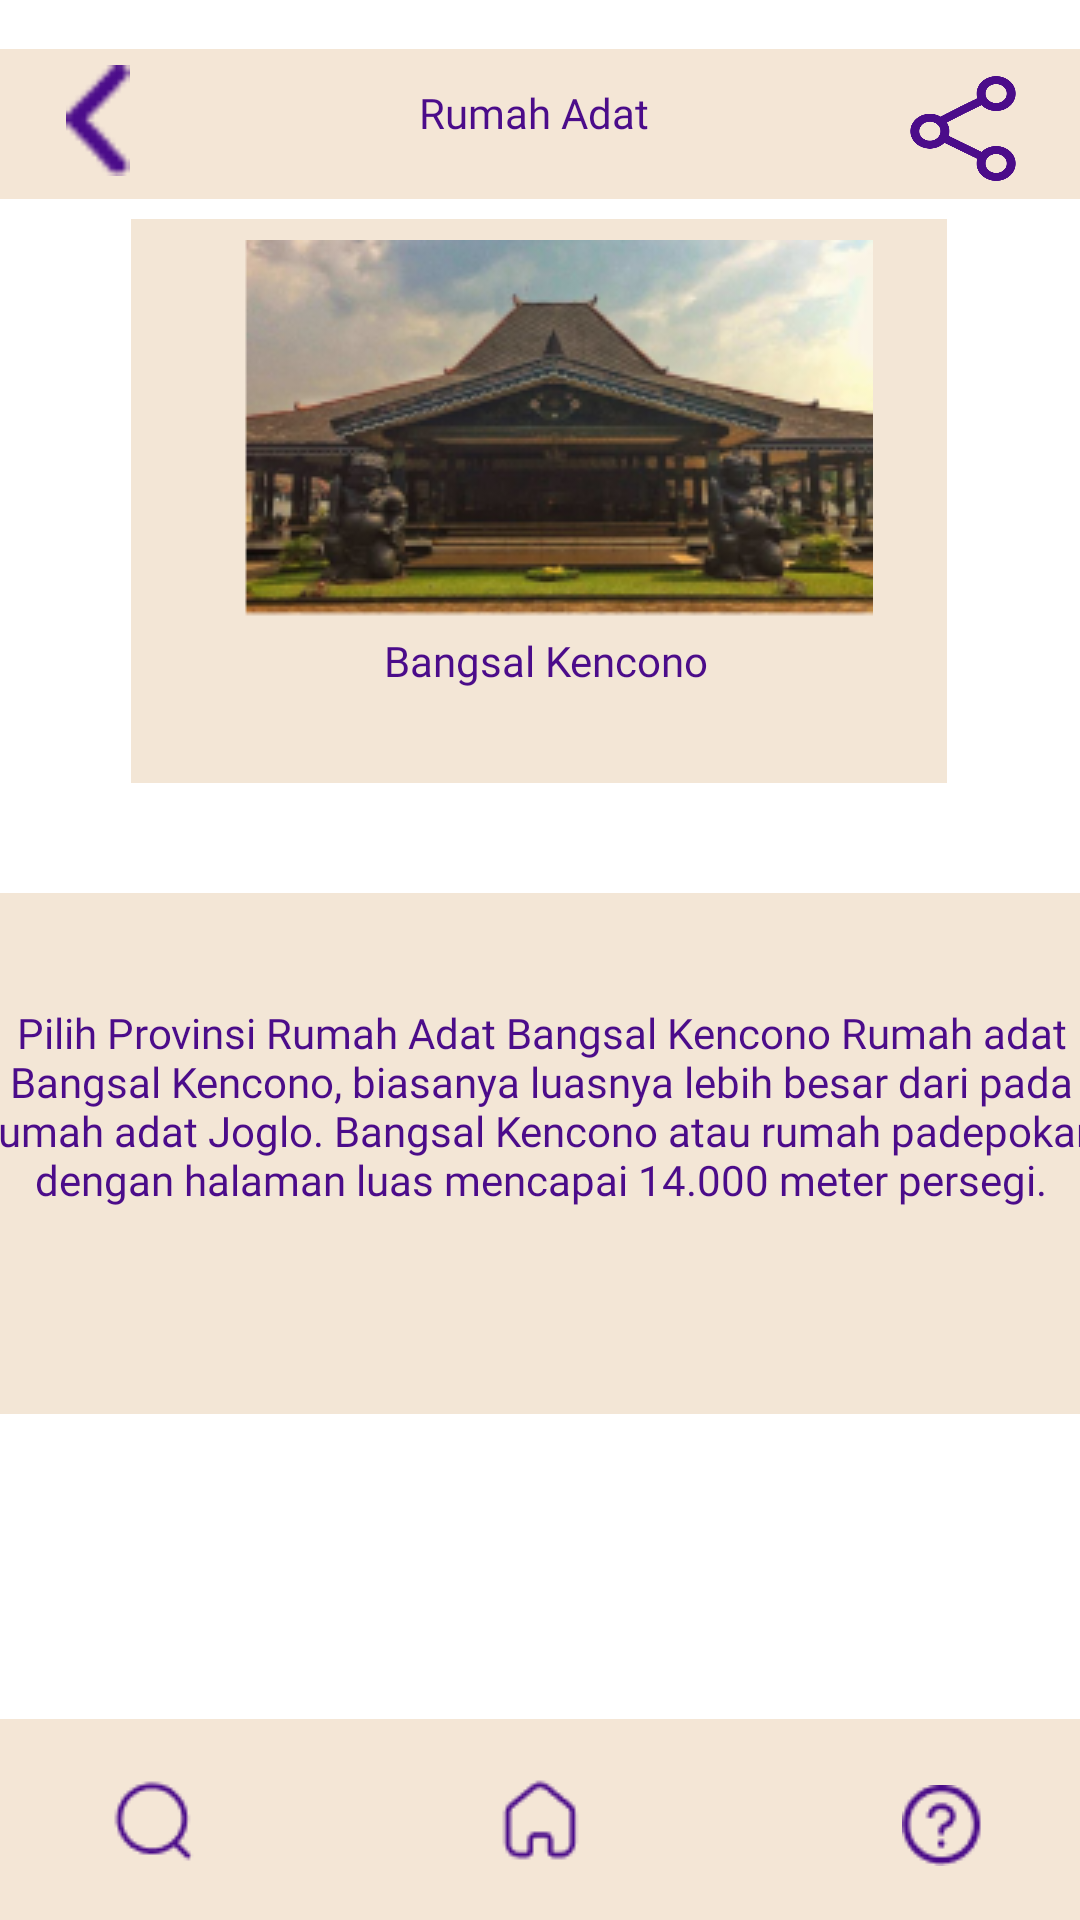

Icons on this 1080x1920 Android screen, each with the point to tap as [x,y]:
homeee: [540,1820]
share: [963,128]
tanya: [941,1825]
xearch: [152,1821]
